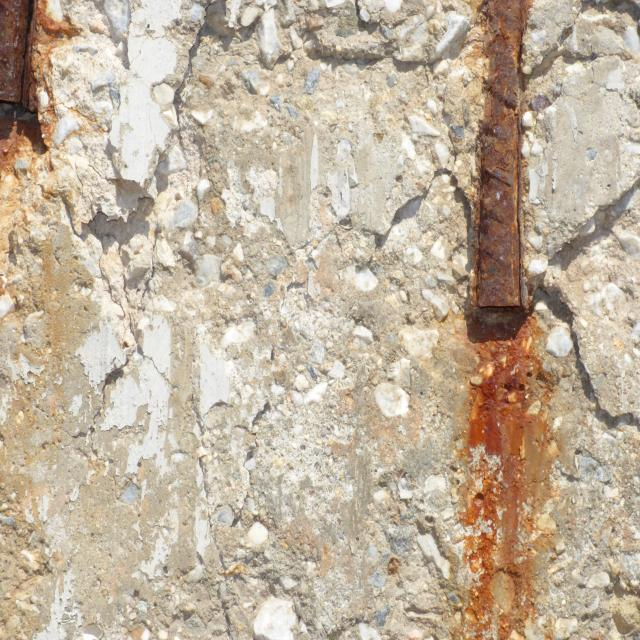corrosion: (444, 0, 581, 640), (0, 0, 96, 535)
